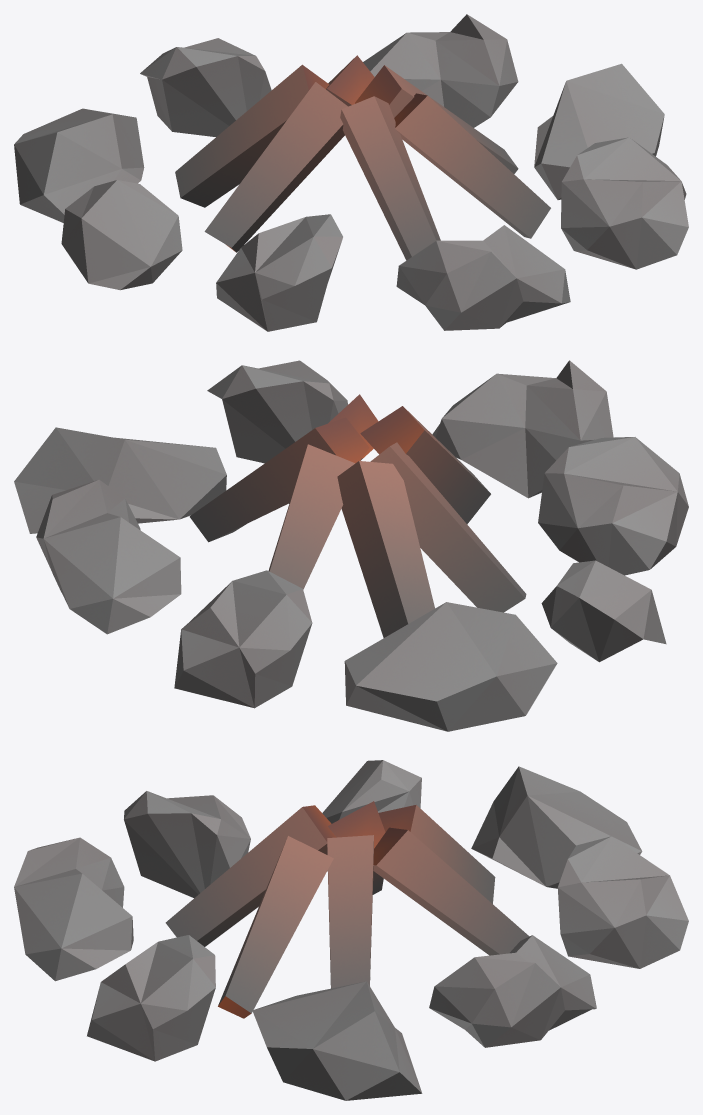
File: Campfire.fbx
3 renders of one model, top to bottom at view 1: azimuth 30°, elevation 25°; view 2: azimuth 150°, elevation 25°; view 3: azimuth 270°, elevation 25°, orthographic. The views are drawn at different scales.
Visible parts, largest first — view 1: polySurface43; view 2: polySurface43; view 3: polySurface43.
Part boxes in pixels (x1=…): polySurface43: x1=14, y1=14, x2=688, y2=331; polySurface43: x1=14, y1=360, x2=688, y2=731; polySurface43: x1=14, y1=760, x2=688, y2=1100.
Size of the model in its own units: 3.95 by 0.9781 by 3.94.
Materials: 1 (1 with a texture image).
